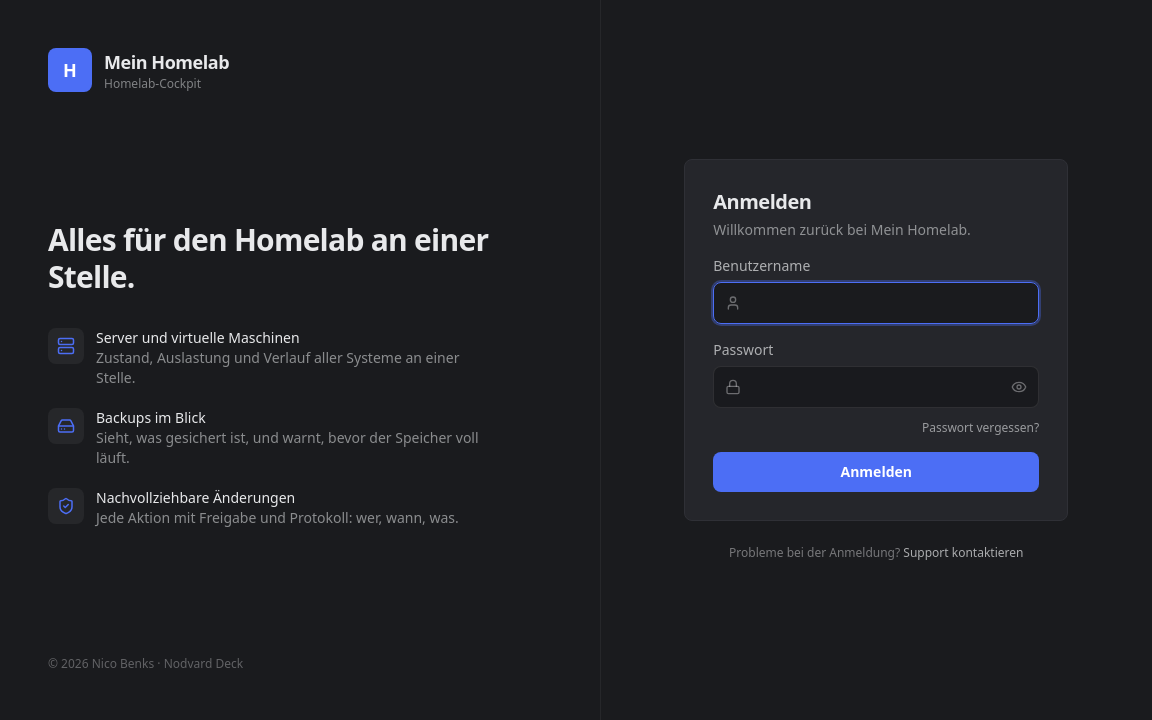
LoginPage › prüft leere Felder, zeigt Fehler vom Server und kann das Passwort anzeigen
Click the button "Anmelden": (876,472) [713,452,1039,492]
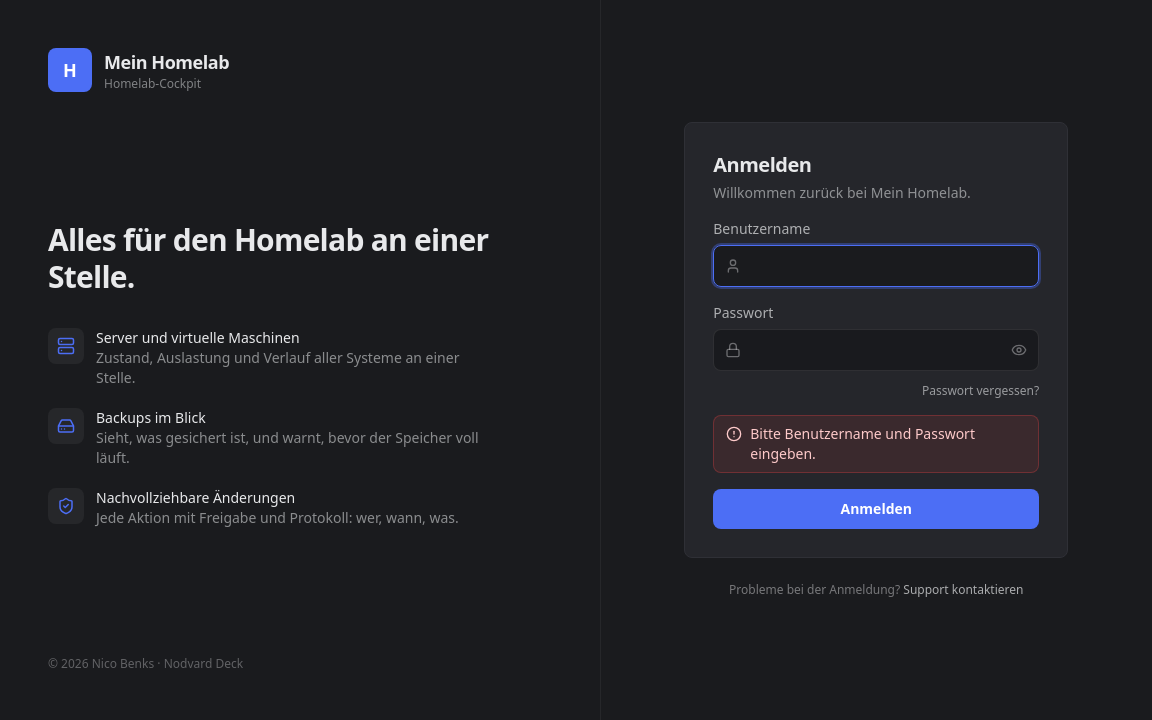
Result: the message reads "Bitte Benutzername und Passwort eingeben." at [750,424,975,463]
In the field labelled "Benutzername": (876,266) [713,245,1039,287], type " Admin "
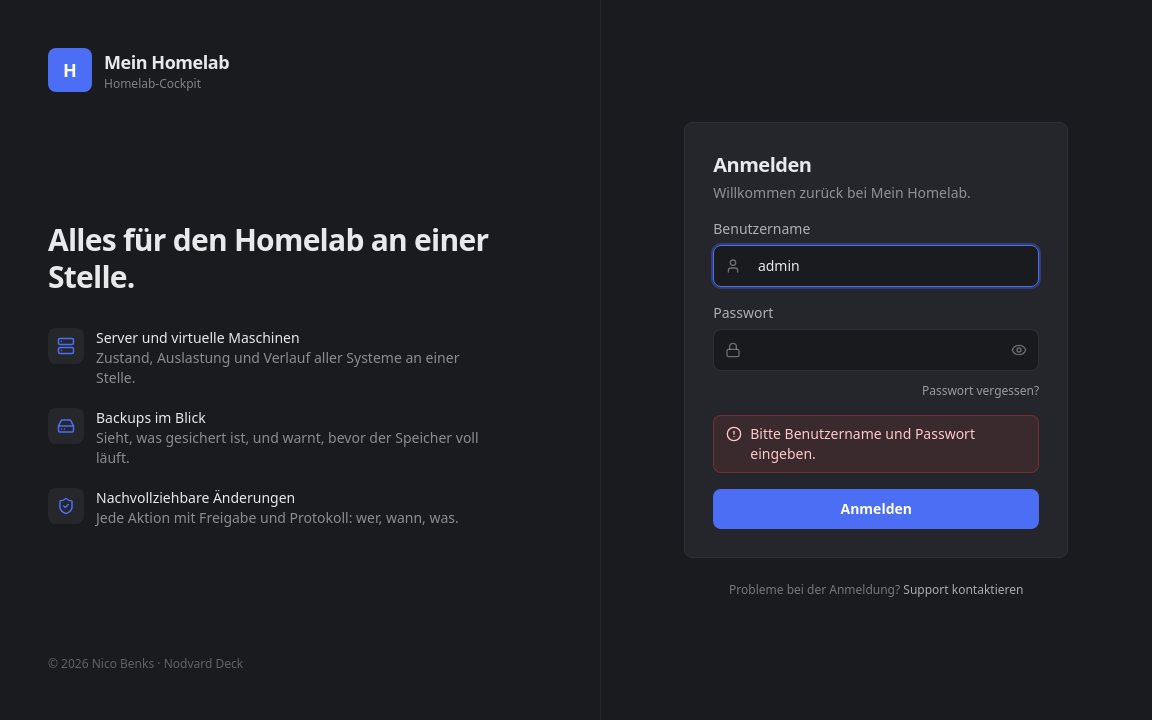
In the password field labelled "Passwort": (876,350) [713,329,1039,371], type "geheim"
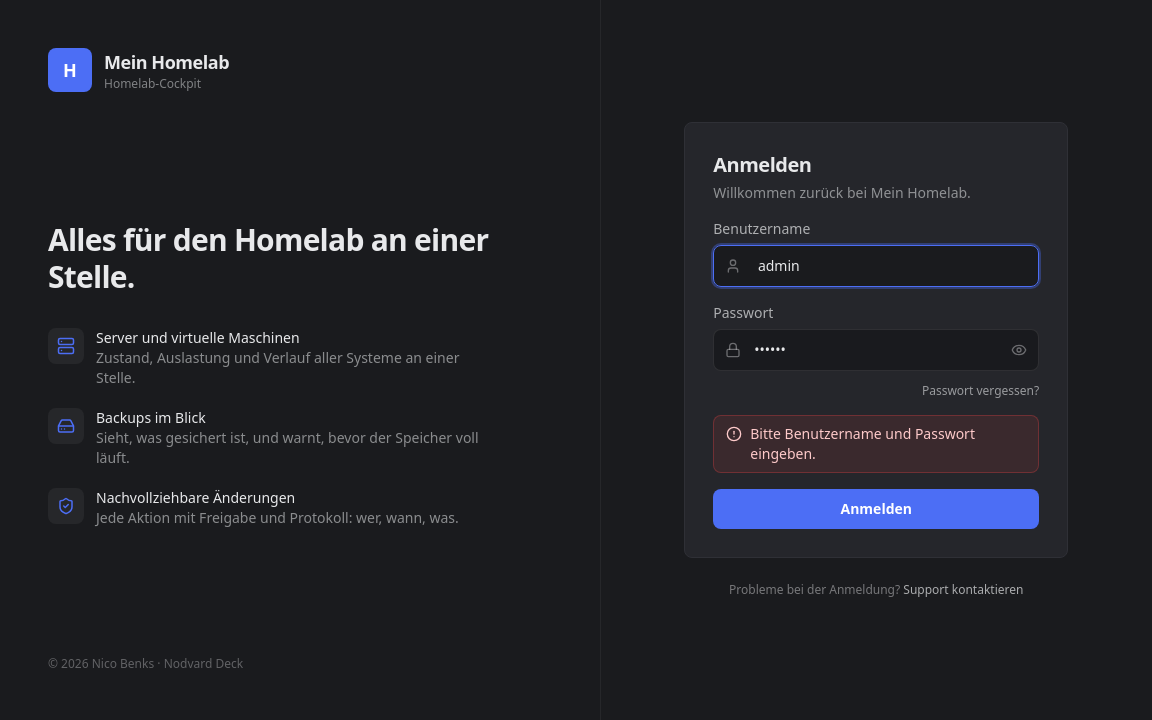
Click the button named "Passwort anzeigen": (1019,350) [1007,338,1031,362]
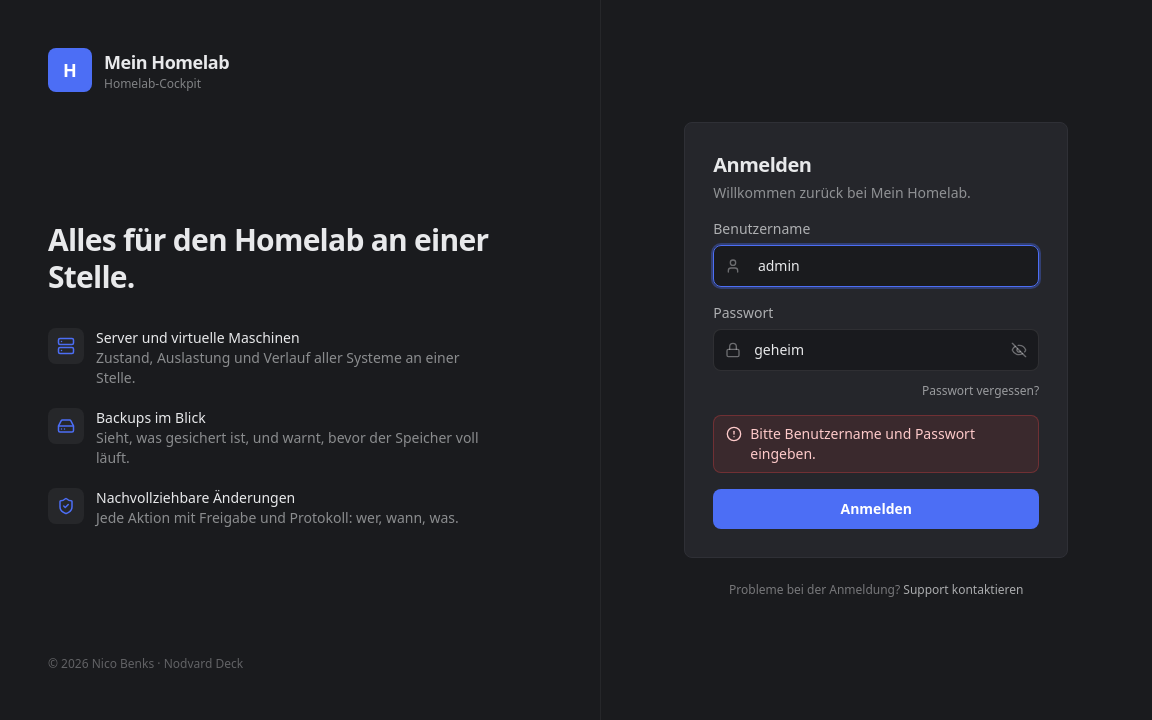
Result: the field labelled "Passwort" shows its text at [713,329,1039,371]
Click the button "Anmelden": (876,509) [713,489,1039,529]
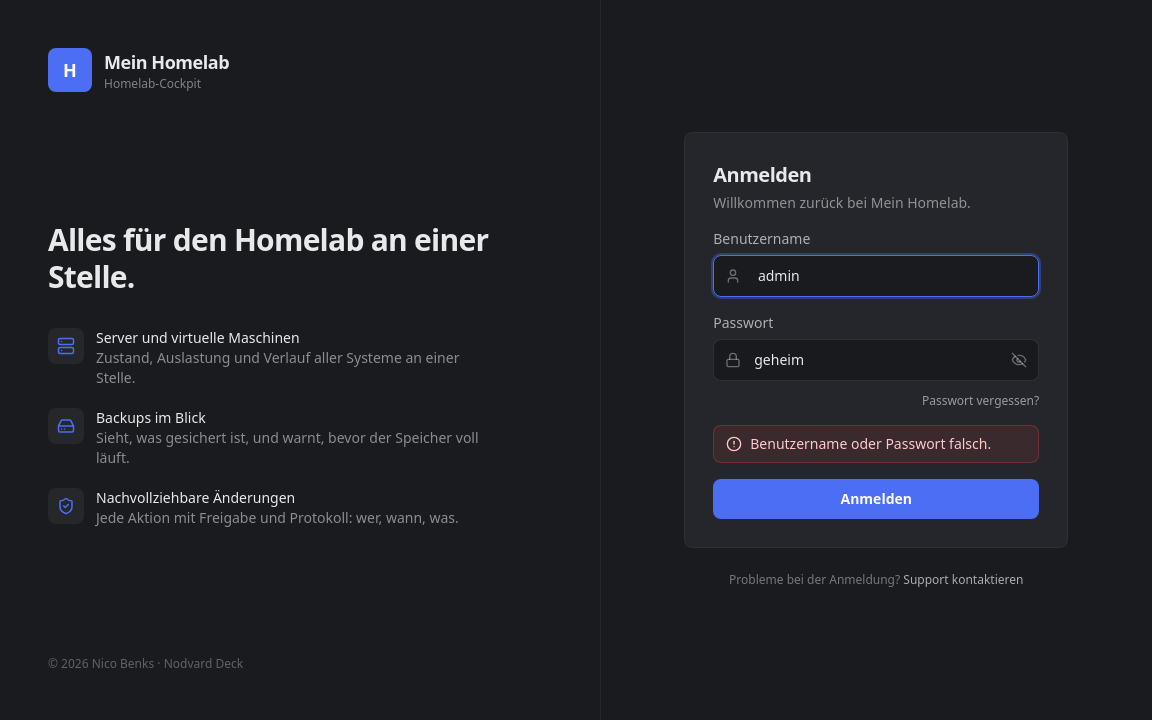
Result: the message reads "Benutzername oder Passwort falsch." at [750,434,991,453]
